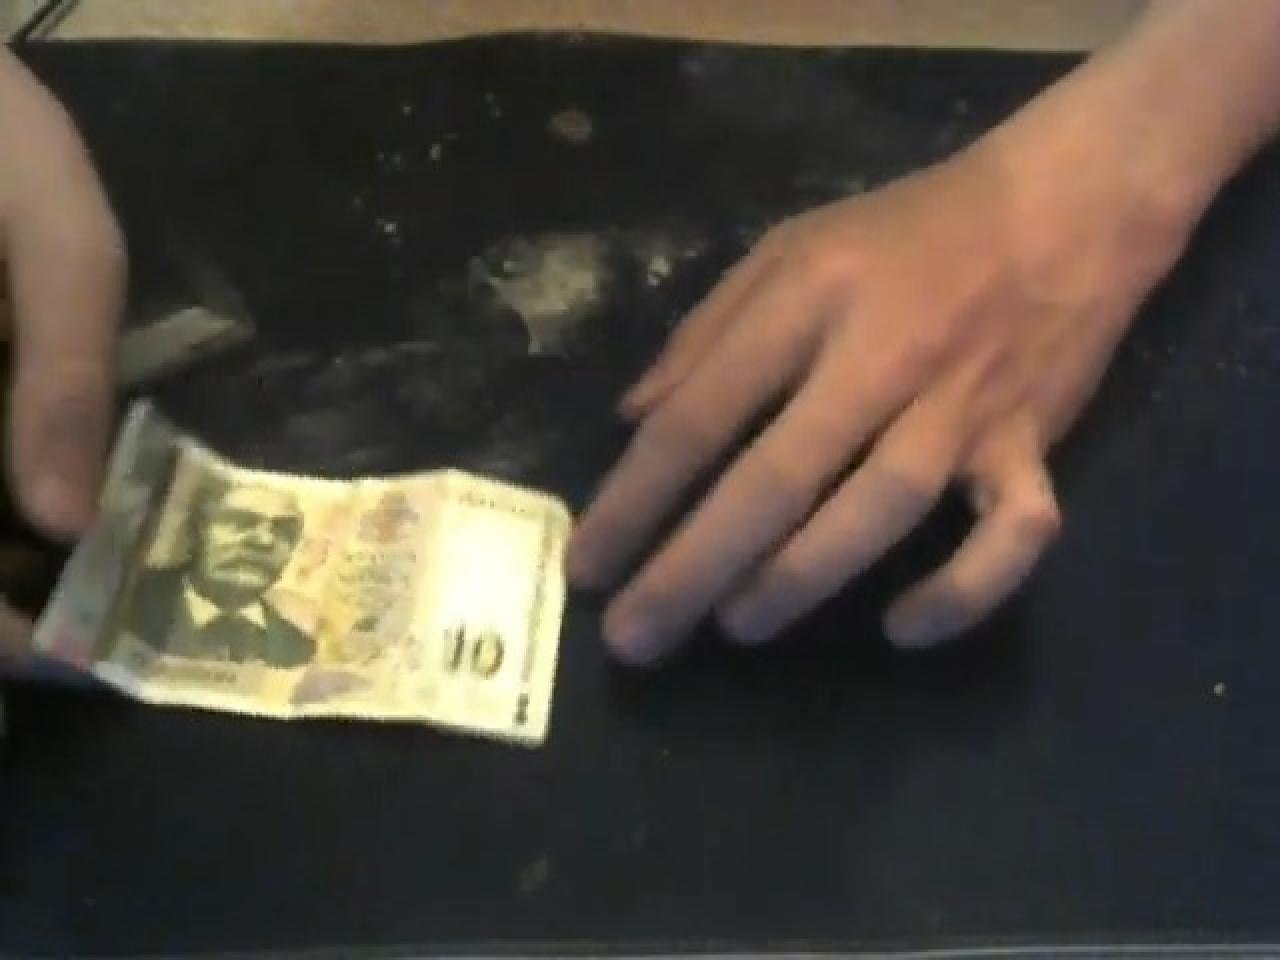10leva: (423, 607, 511, 706)
